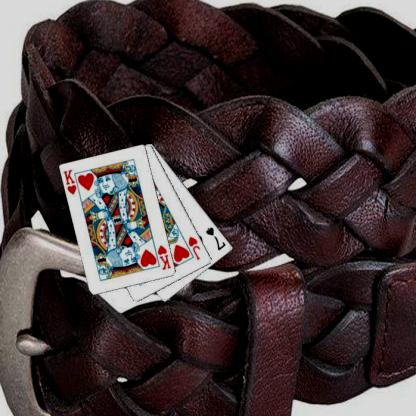7S: (203, 224, 227, 252)
JH: (186, 234, 201, 261)
KH: (61, 167, 78, 196), (155, 243, 172, 271)
